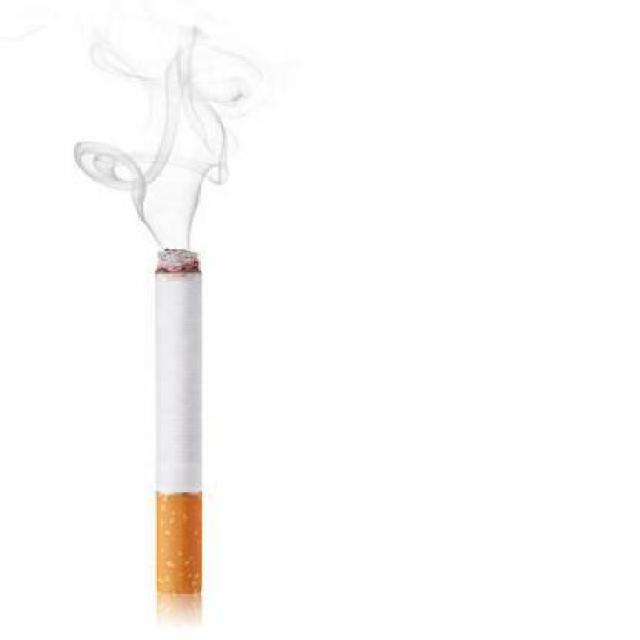cigarette: (137, 244, 225, 599)
